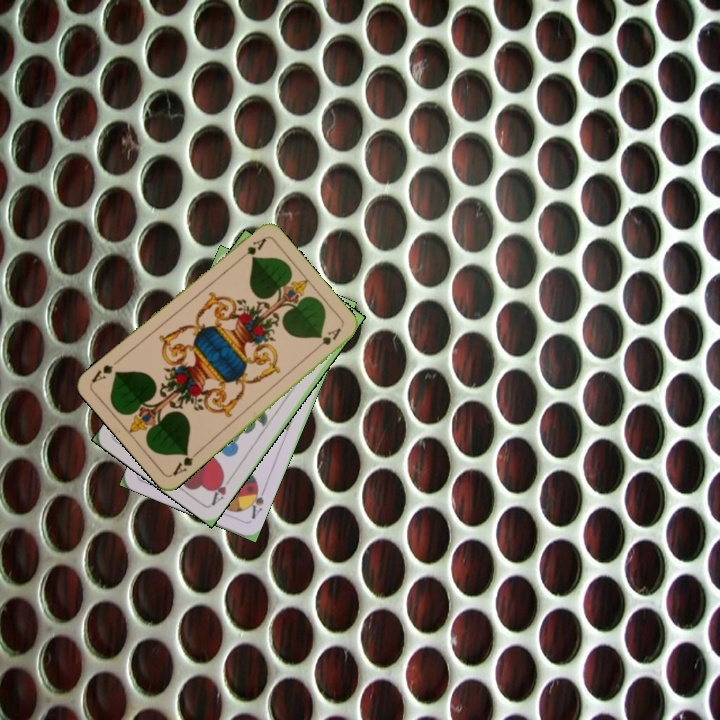GA: (233, 234, 269, 264), (168, 447, 202, 478)
HA: (207, 472, 235, 508)
SA: (243, 482, 268, 522)
